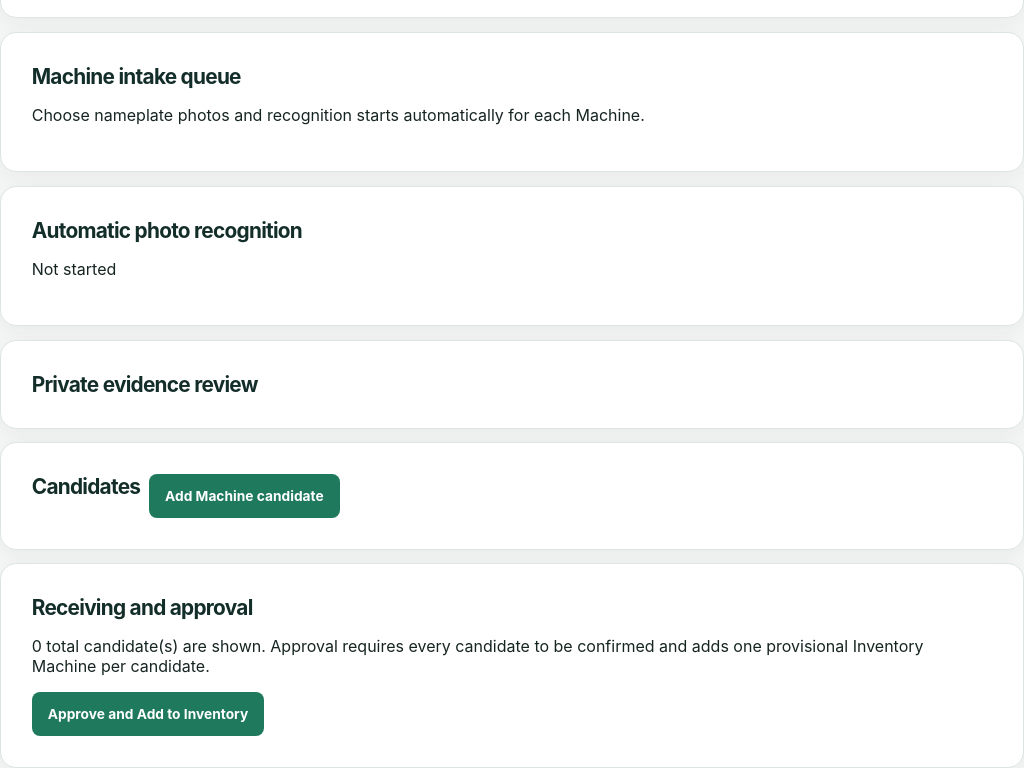
Test: Intake review UI › refreshes authoritative state when approval response is lost
The image size is (1024, 768).
(page scrolled)
What coordinates should you click on to do the following:
click the button "Approve and Add to Inventory"
I would click on:
 (148, 714)
Its box is [32, 692, 264, 736].
(page scrolled)
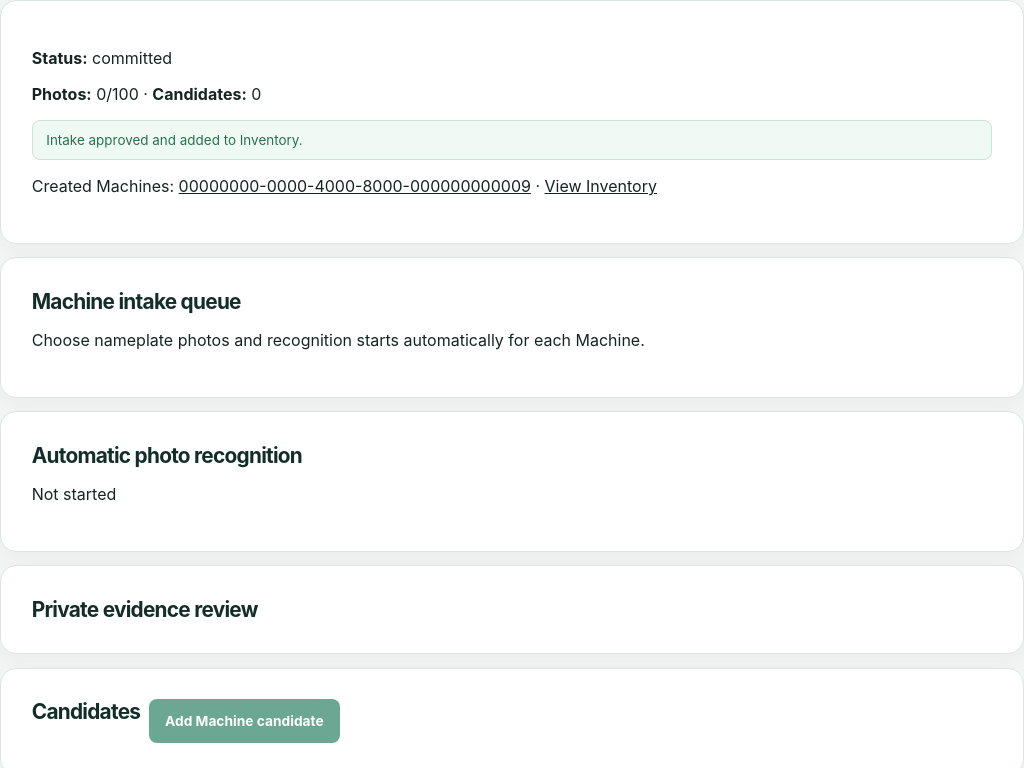
Now the text "Intake approved and added to Inventory." is shown, box [32, 120, 992, 160]
Now the text "committed" is shown, box [92, 48, 172, 68]
Now the link "00000000-0000-4000-8000-000000000009" is shown, box [179, 176, 531, 196]
